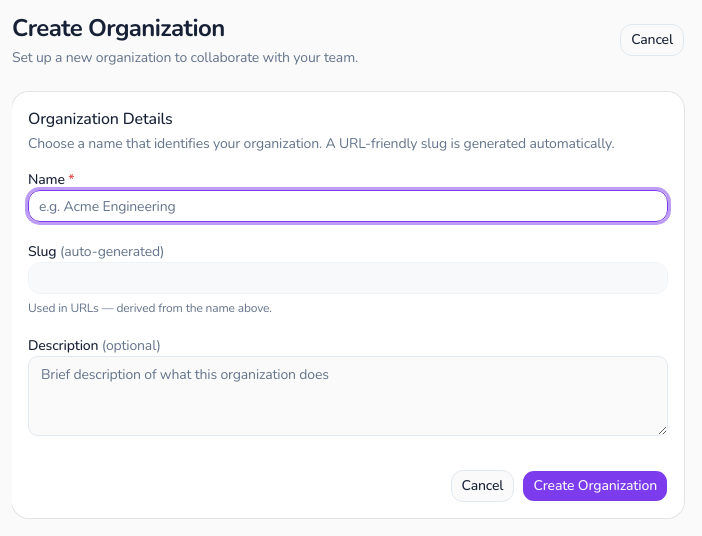
NewOrgClient › disables the submit button while submitting
Type "Test Org" into the field labelled "Name *" at [348, 206], box [28,190,668,222]
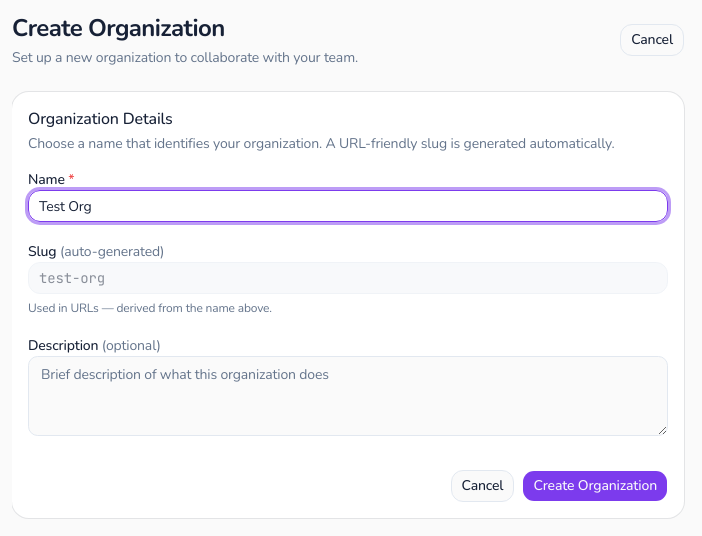
Click the button "Create Organization" at [595, 486], box [522,470,668,502]
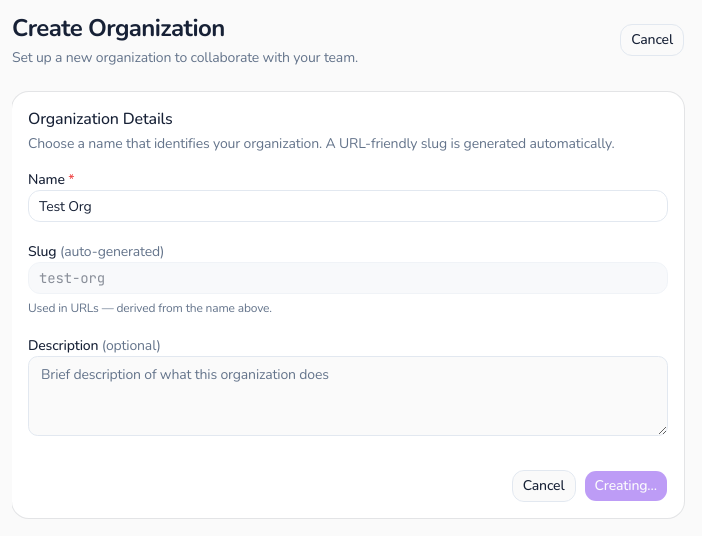
Now the button "Creating…" is disabled, box [584,470,668,502]
